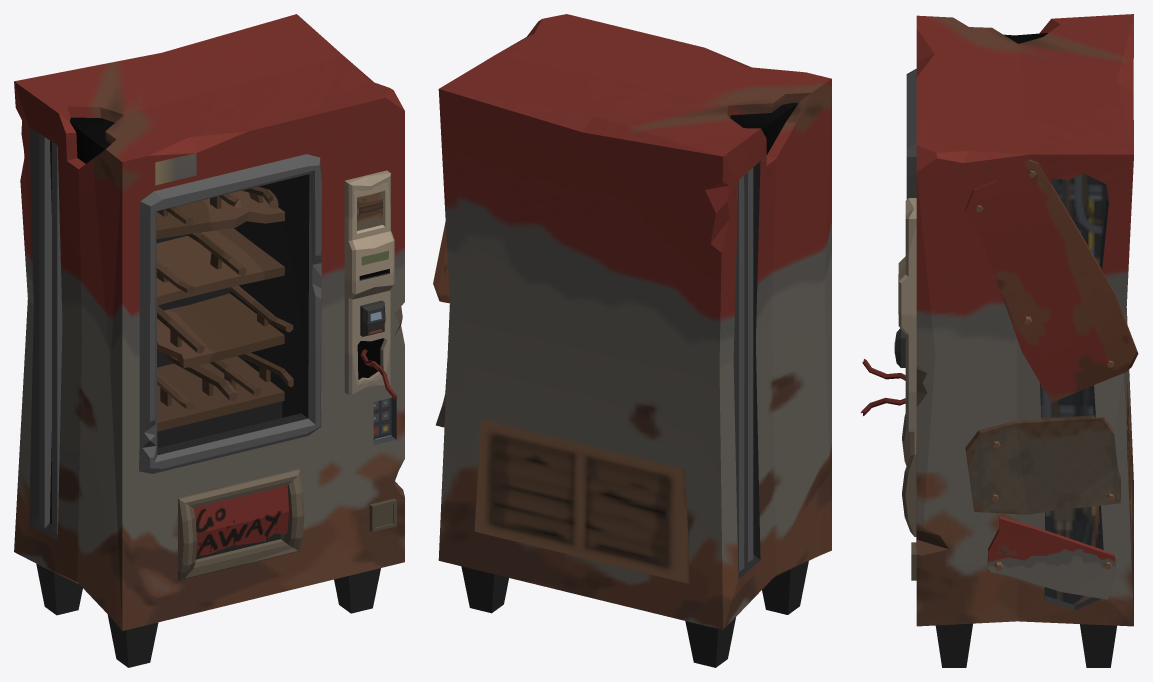
Rendered from SM_Prop_Vending_Machine_01_184.obj.
The picture shows the model from 3 angles, left to right: view 1: azimuth 30°, elevation 25°; view 2: azimuth 150°, elevation 25°; view 3: azimuth 270°, elevation 25°; orthographic projection.
Parts seen in each view (by area): view 1: SM_Prop_Vending_Machine_01_0; view 2: SM_Prop_Vending_Machine_01_0; view 3: SM_Prop_Vending_Machine_01_0.
Part boxes in pixels (x1=…): SM_Prop_Vending_Machine_01_0: x1=14, y1=14, x2=404, y2=667; SM_Prop_Vending_Machine_01_0: x1=433, y1=14, x2=831, y2=667; SM_Prop_Vending_Machine_01_0: x1=861, y1=14, x2=1138, y2=667.
Bounding box in the file's own units: 1.24 × 2.1 × 1.01.
1 material, 1 textured.
